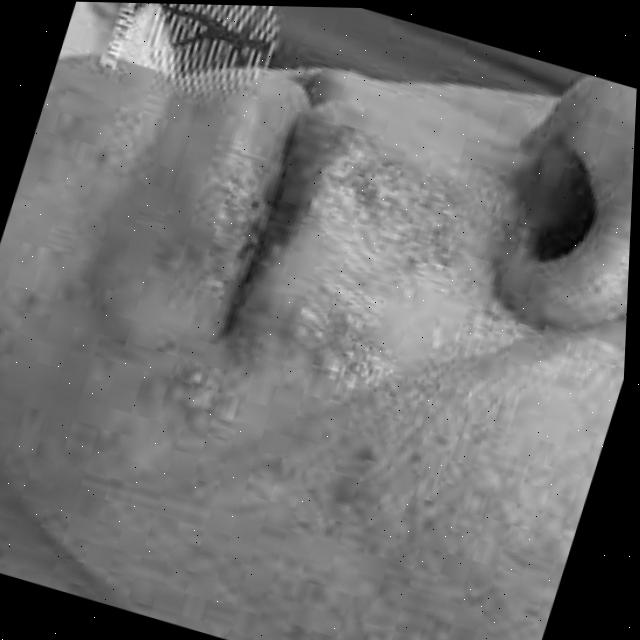Shingles: (332, 142, 482, 252), (153, 167, 275, 302), (264, 300, 393, 385), (162, 359, 252, 431)
